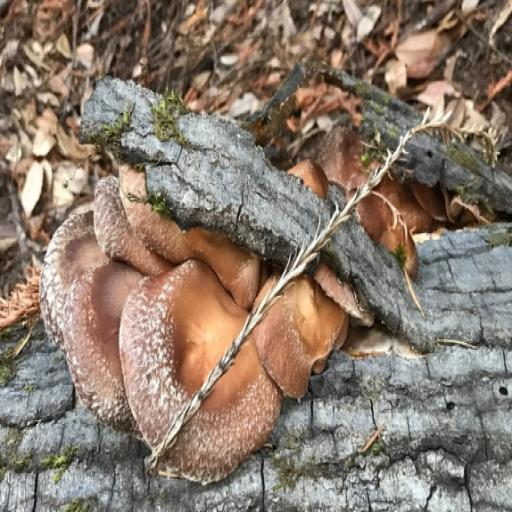Shiitake Mushroom: (0, 148, 338, 486)
